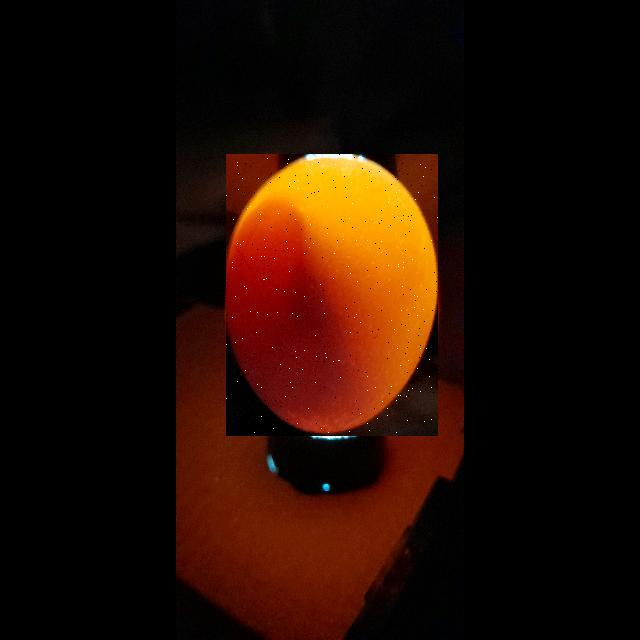Infertile: (226, 154, 438, 436)
